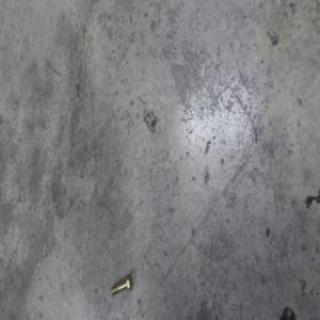Bolttrack_idkeyframe: (111, 273, 134, 297)
